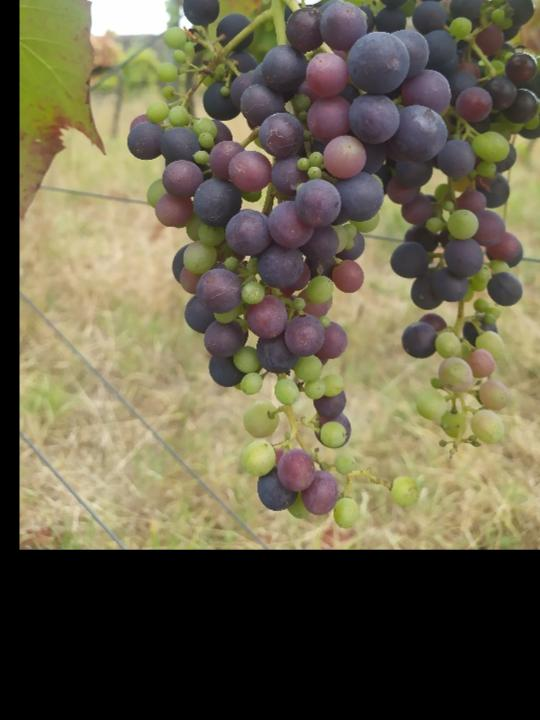grape: (123, 0, 454, 534)
